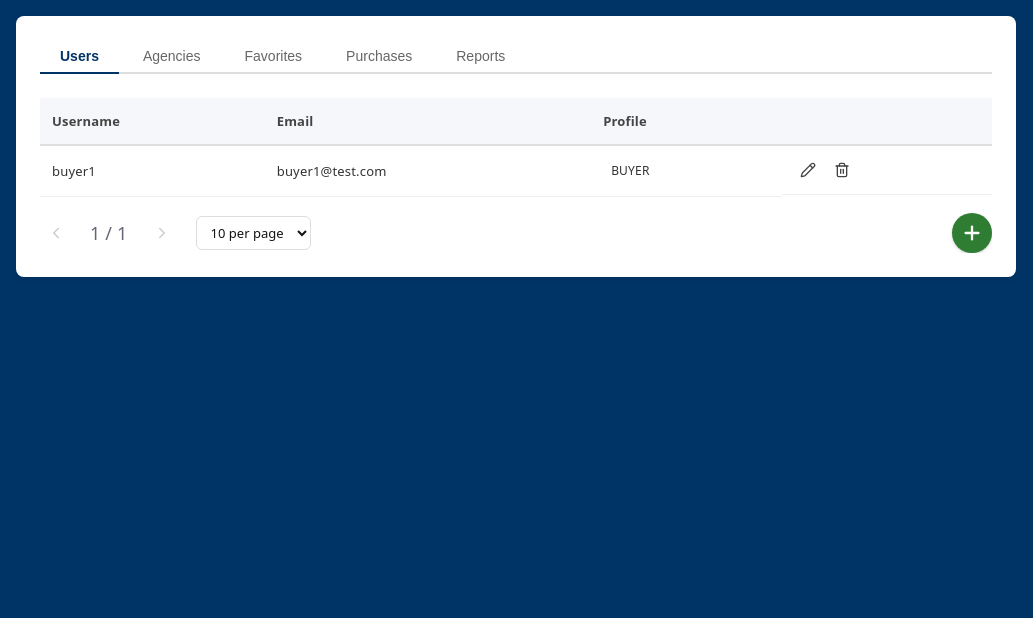
it: AdminPage › opens the new agency form and creates an agency
This screenshot has width=1033, height=618.
Click the button with test id "tab-agencies" at (172, 57), box top-left (123, 40), bottom-right (220, 74)
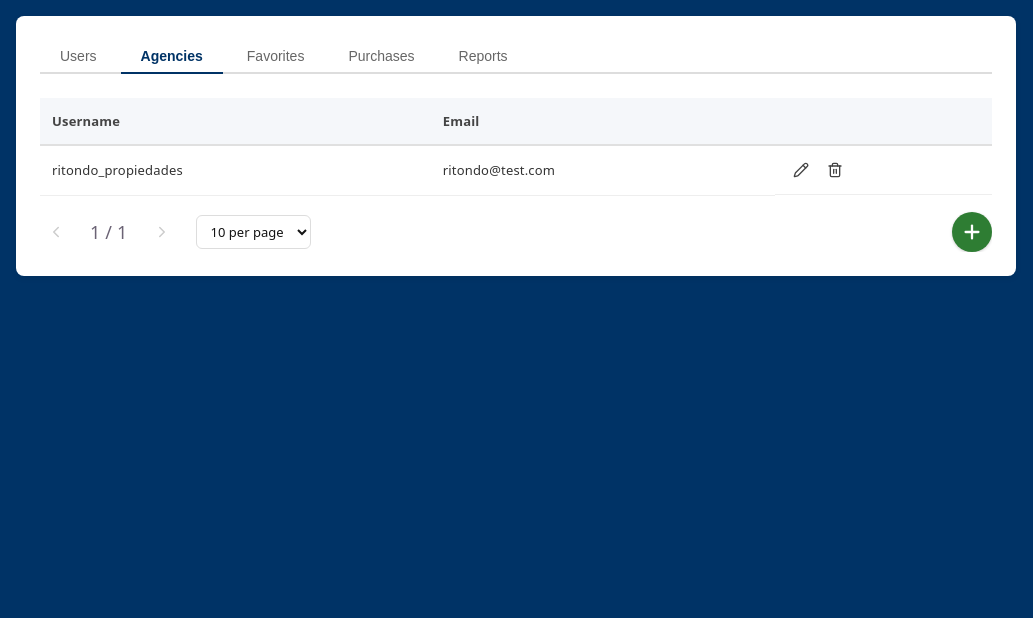
Click the button with test id "btn-new-agency" at (972, 232), box top-left (952, 212), bottom-right (992, 252)
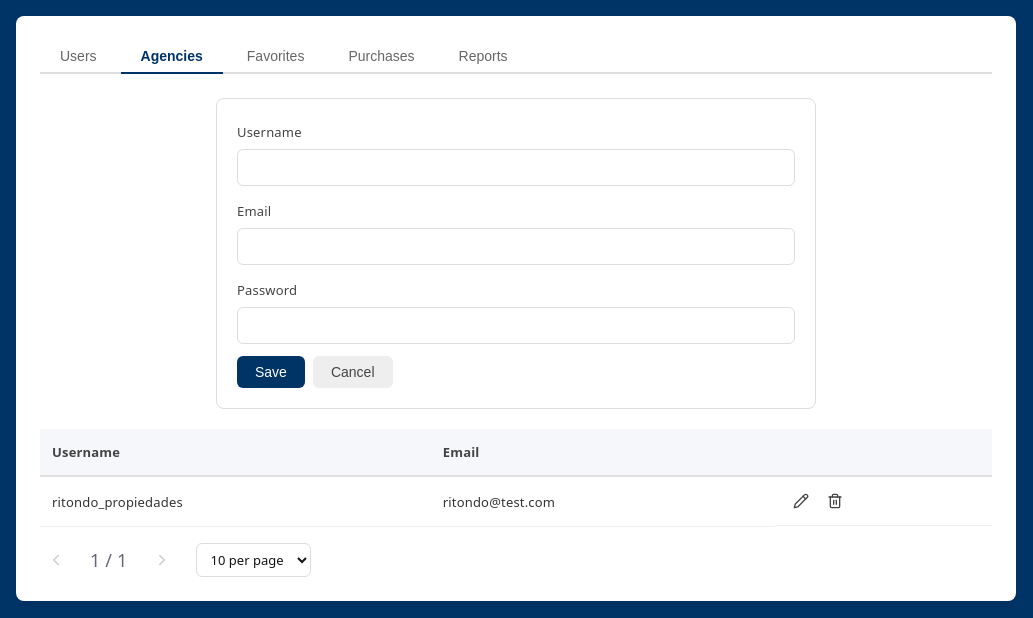
Check: the form with test id "agency-form" is shown, box top-left (216, 98), bottom-right (816, 409)
Type "nueva_inmo" into the field with test id "input-username" at (516, 168), box top-left (237, 149), bottom-right (795, 186)
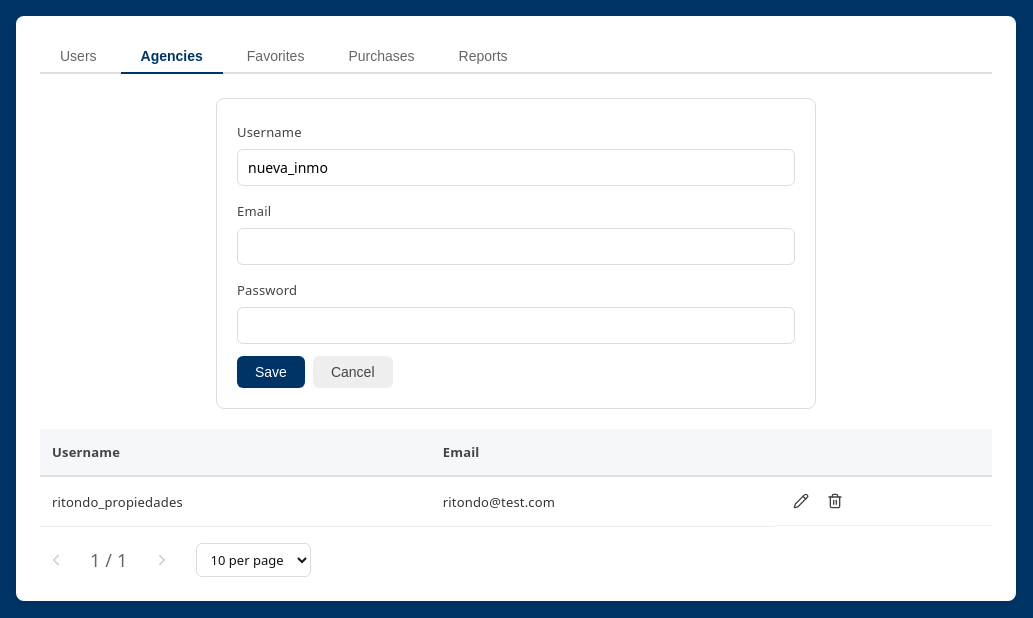
Type "nueva@cth.com" into the field with test id "input-email" at (516, 247), box top-left (237, 228), bottom-right (795, 265)
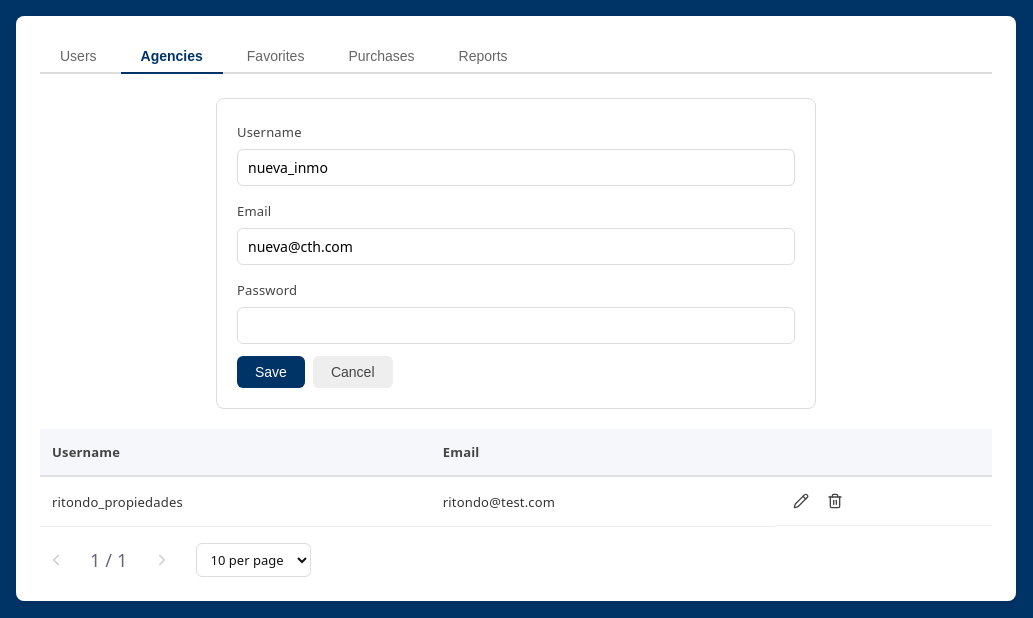
Type "secret123" into the password field with test id "input-password" at (516, 326), box top-left (237, 307), bottom-right (795, 344)
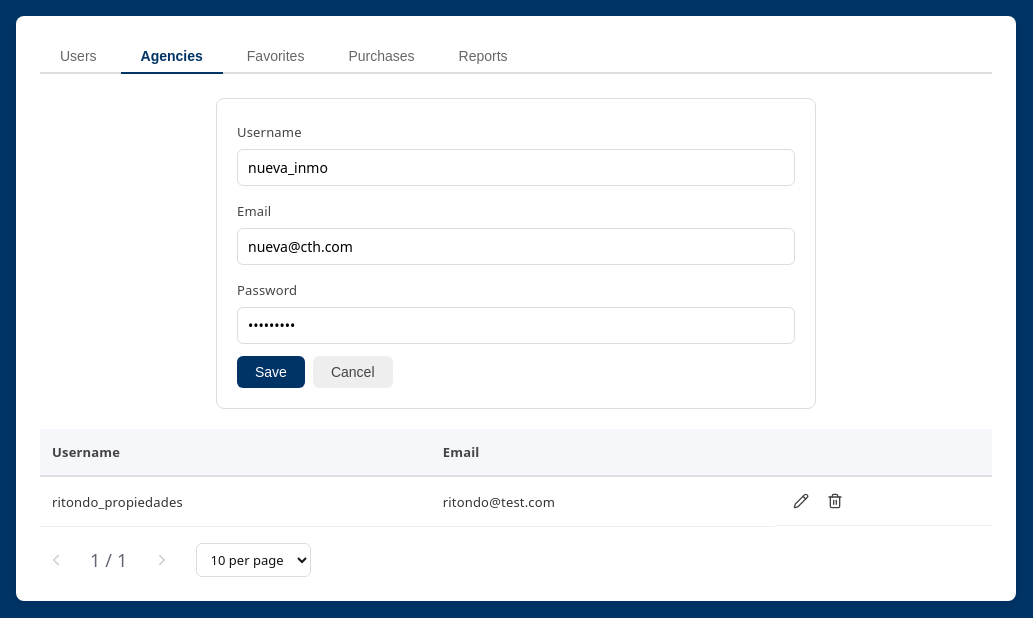
Click the button with test id "btn-submit-agency" at (271, 372), box top-left (237, 356), bottom-right (305, 388)
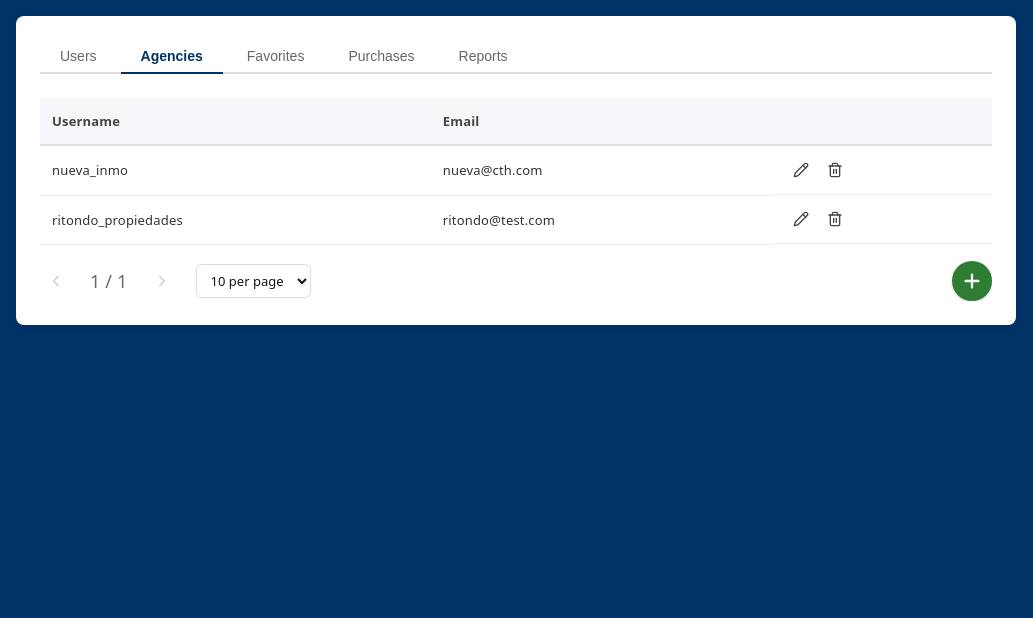
Check: the text "nueva_inmo" is shown, box top-left (40, 145), bottom-right (431, 195)
Check: the form with test id "agency-form" is gone
